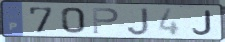0: (59, 7, 88, 35)
4: (157, 7, 183, 37)
7: (27, 6, 55, 34)
J: (125, 7, 150, 37), (191, 10, 214, 36)
P: (91, 6, 120, 35)
